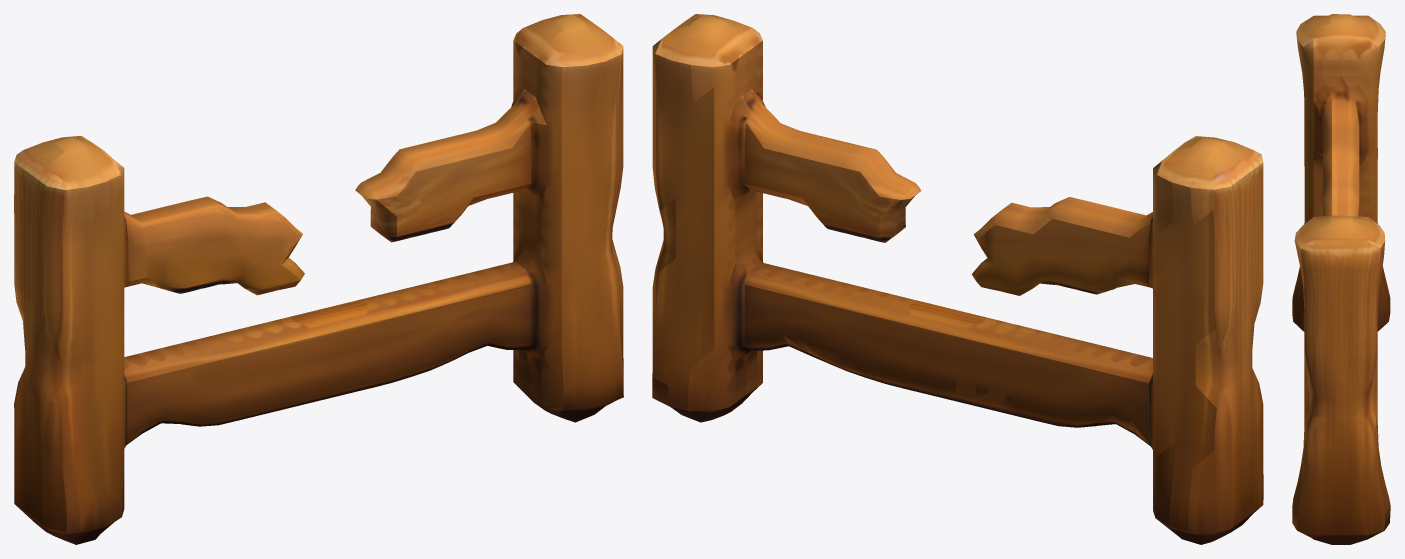
The model's file is fence_4.glb.
The picture shows the model from 3 angles, left to right: view 1: azimuth 30°, elevation 25°; view 2: azimuth 150°, elevation 25°; view 3: azimuth 270°, elevation 25°; orthographic projection. The views are drawn at different scales.
Visible parts, largest first — view 1: tmp3hfbxf27.ply; view 2: tmp3hfbxf27.ply; view 3: tmp3hfbxf27.ply.
Boxes of the visible parts, x1=… form: tmp3hfbxf27.ply: x1=14, y1=14, x2=623, y2=544; tmp3hfbxf27.ply: x1=652, y1=14, x2=1263, y2=544; tmp3hfbxf27.ply: x1=1292, y1=14, x2=1390, y2=544.
Bounding box in the file's own units: 1.84 × 1.19 × 0.3293.
1 material, 1 textured.
